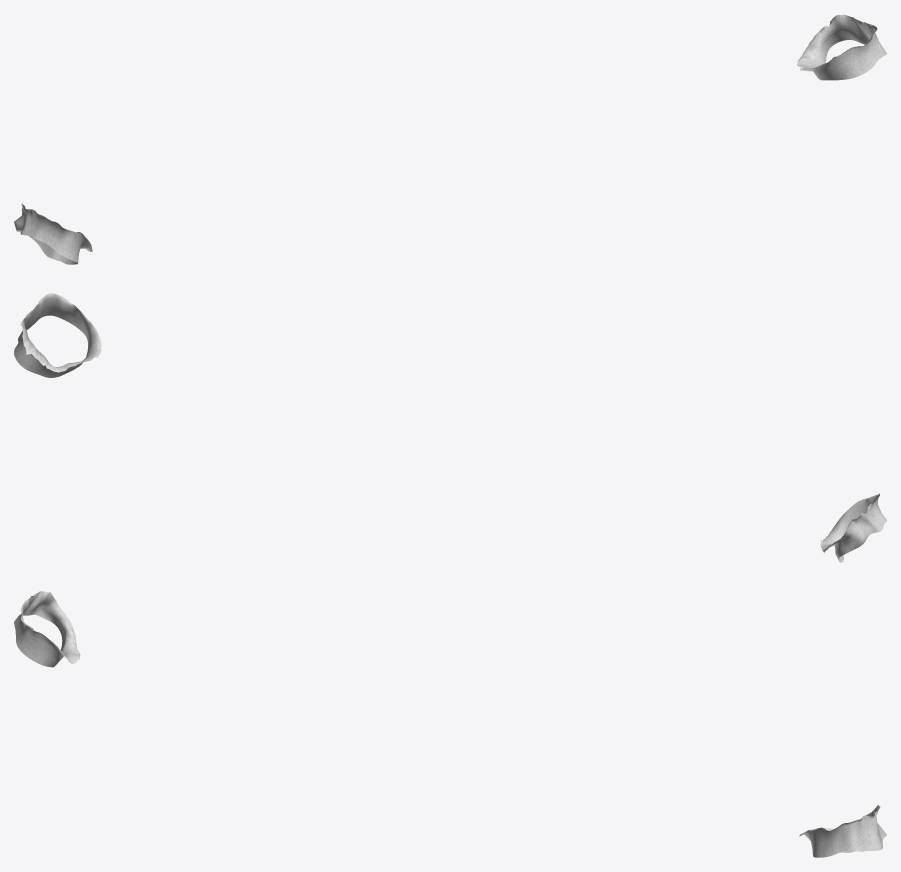
The model's file is Jac_Rope_Sleeves_V2.glb.
The picture shows the model from 3 angles, top to bottom: view 1: azimuth 30°, elevation 25°; view 2: azimuth 150°, elevation 25°; view 3: azimuth 330°, elevation 25°; orthographic projection.
Visible parts, largest first — view 1: Jac_Rope_Sleeves_V21; view 2: Jac_Rope_Sleeves_V21; view 3: Jac_Rope_Sleeves_V21.
Boxes of the visible parts, bbox=[...] form: Jac_Rope_Sleeves_V21: bbox=[14, 14, 886, 264]; Jac_Rope_Sleeves_V21: bbox=[14, 293, 886, 562]; Jac_Rope_Sleeves_V21: bbox=[14, 591, 886, 857].
Size of the model in its own units: 1.53 by 0.1094 by 0.1479.
Materials: 1 (1 with a texture image).
